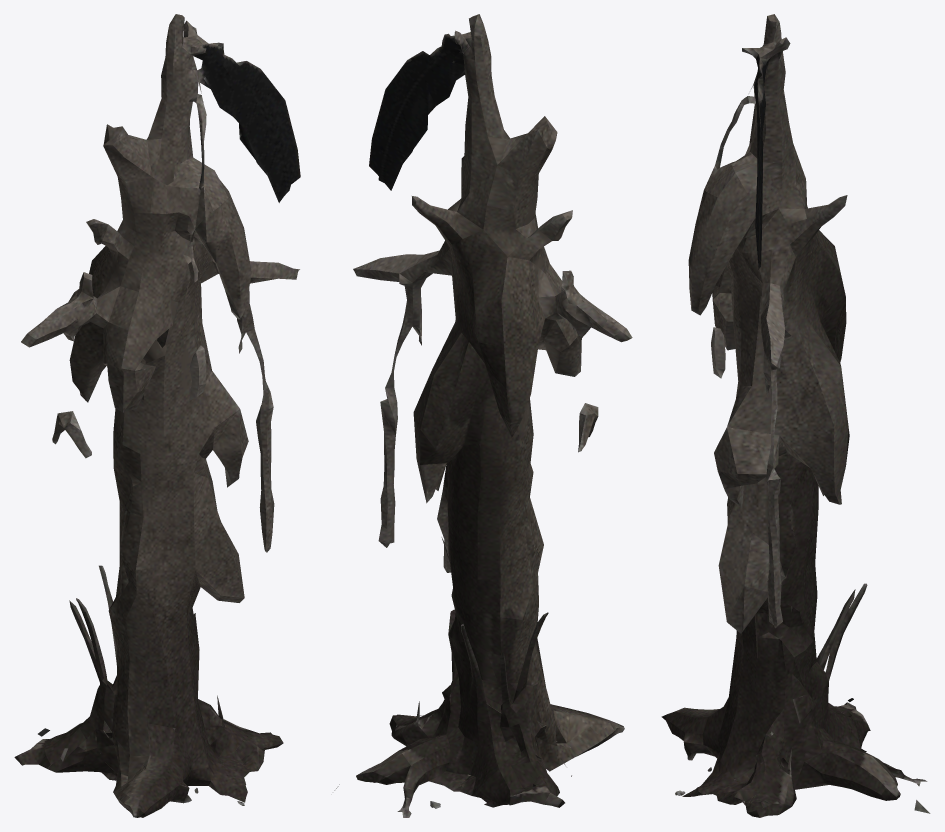
Rendered from m17-witch-totem-pixelated.glb.
The picture shows the model from 3 angles, left to right: view 1: azimuth 30°, elevation 25°; view 2: azimuth 150°, elevation 25°; view 3: azimuth 270°, elevation 25°; orthographic projection. The views are drawn at different scales.
Visible parts, largest first — view 1: m17-witch-totem.glb; view 2: m17-witch-totem.glb; view 3: m17-witch-totem.glb.
Boxes of the visible parts, box(x1,y1,x2,y2) form: m17-witch-totem.glb: box(14, 14, 300, 817); m17-witch-totem.glb: box(334, 14, 632, 817); m17-witch-totem.glb: box(661, 14, 930, 817).
Size of the model in its own units: 0.7229 by 1.87 by 0.5909.
Materials: 1 (1 with a texture image).
